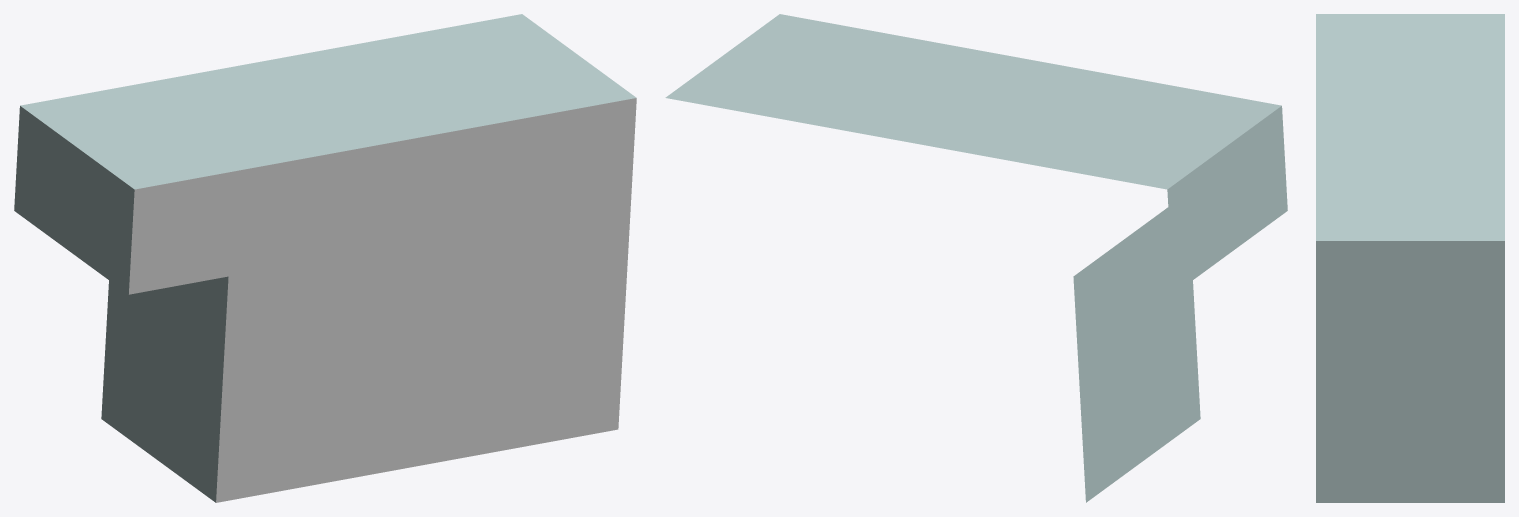
3 views of the same model, side by side, from view 1: azimuth 30°, elevation 25°; view 2: azimuth 150°, elevation 25°; view 3: azimuth 270°, elevation 25° (orthographic). The views are drawn at different scales.
Parts seen in each view (by area): view 1: 0_2_3_2_3_0_1_2_1; view 2: 0_2_3_2_3_0_1_2_1; view 3: 0_2_3_2_3_0_1_2_1.
Part boxes in pixels (<box>): 0_2_3_2_3_0_1_2_1: <box>14,14,636,502</box>; 0_2_3_2_3_0_1_2_1: <box>665,14,1287,502</box>; 0_2_3_2_3_0_1_2_1: <box>1316,14,1504,502</box>.
Size of the model in its own units: 7.67 by 5.17 by 3.
